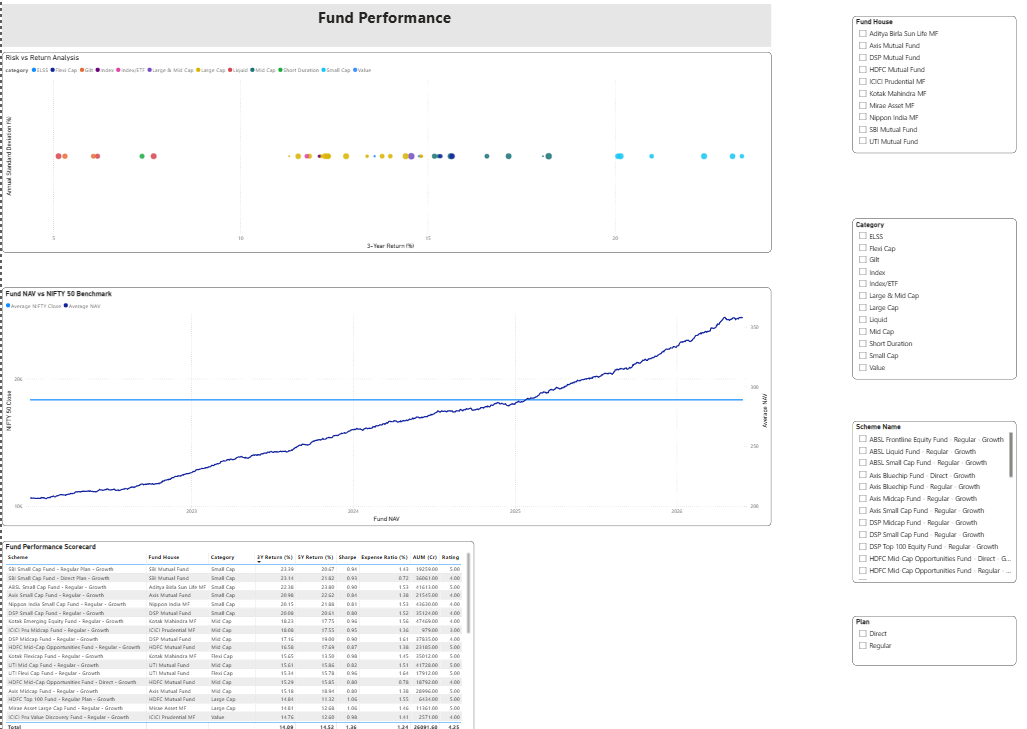

The page's visual inventory and layout, read from the dashboard file:
{"tool":"powerbi","page":{"name":"Fund Performance","canvas":[2500,1800],"ordinal":1},"visuals":[{"type":"scatterChart","title":"Risk vs Return Analysis","fields":{"X":["Avg(scheme_performance_cleaned.return_3yr_pct)"],"Size":["Avg(scheme_performance_cleaned.aum_crore)"],"Series":["scheme_performance_cleaned.category"],"Category":["scheme_performance_cleaned.scheme_name"]},"box":[0,146.7,1866.7,486.7],"z":0},{"type":"tableEx","title":"Fund Performance Scorecard","fields":{"Values":["scheme_performance_cleaned.scheme_name","scheme_performance_cleaned.fund_house","scheme_performance_cleaned.category","Avg(scheme_performance_cleaned.return_3yr_pct)","Avg(scheme_performance_cleaned.return_5yr_pct)","Avg(scheme_performance_cleaned.sharpe_ratio)","Avg(scheme_performance_cleaned.expense_ratio_pct)","Avg(scheme_performance_cleaned.aum_crore)","Avg(scheme_performance_cleaned.morningstar_rating)"]},"box":[0,1331.8,1145.6,469.6],"z":1000},{"type":"lineChart","title":"Fund NAV vs NIFTY 50 Benchmark","fields":{"Category":["nav_history_cleaned.date"],"Y2":["Measure_Table.Average NAV"],"Y":["Measure_Table.Average NIFTY Close"]},"box":[0,716.5,1866.2,578.9],"z":2000},{"type":"slicer","title":"Fund House","fields":{"Values":["01_fund_master.fund_house"]},"box":[2062.5,57.5,397.5,332.5],"z":3000},{"type":"slicer","title":"Category","fields":{"Values":["07_scheme_performance.category"]},"box":[2062,550,398,390],"z":4000},{"type":"slicer","title":"Plan","fields":{"Values":["01_fund_master.plan"]},"box":[2062.5,1512.5,397.5,120],"z":5000},{"type":"slicer","title":"Scheme Name","fields":{"Values":["07_scheme_performance.scheme_name"]},"box":[2062.5,1042.5,397.5,392.5],"z":6000},{"type":"textbox","box":[0,28,1866,104],"z":7000}]}

Visuals, with their boxes in screenshot pixels (x1, y1, x2, y2), scaled from the page's 2500x1800 canvas onto the 1027x729 screenshot:
"Risk vs Return Analysis" scatterChart: rect(0, 59, 767, 257)
"Fund Performance Scorecard" tableEx: rect(0, 539, 471, 728)
"Fund NAV vs NIFTY 50 Benchmark" lineChart: rect(0, 290, 767, 525)
"Fund House" slicer: rect(847, 23, 1011, 158)
"Category" slicer: rect(847, 223, 1011, 381)
"Plan" slicer: rect(847, 613, 1011, 661)
"Scheme Name" slicer: rect(847, 422, 1011, 581)
textbox: rect(0, 11, 767, 53)
